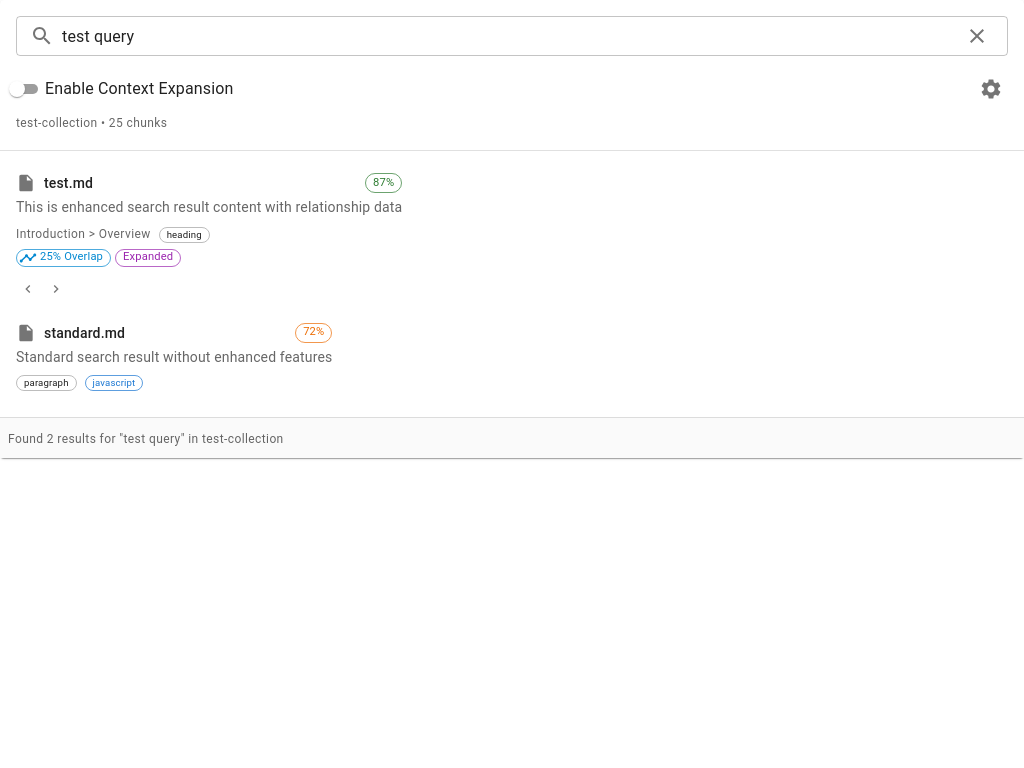
it: EnhancedVectorSearchPanel › Accessibility › provides proper ARIA labels for enhanced controls
Check: the switch labelled "Enable Context Expansion" is shown, box [5,77,234,101]
// Expand settings to access the slider
Click the button named "Enhanced Search Settings" at (991, 89), box [974,72,1008,106]
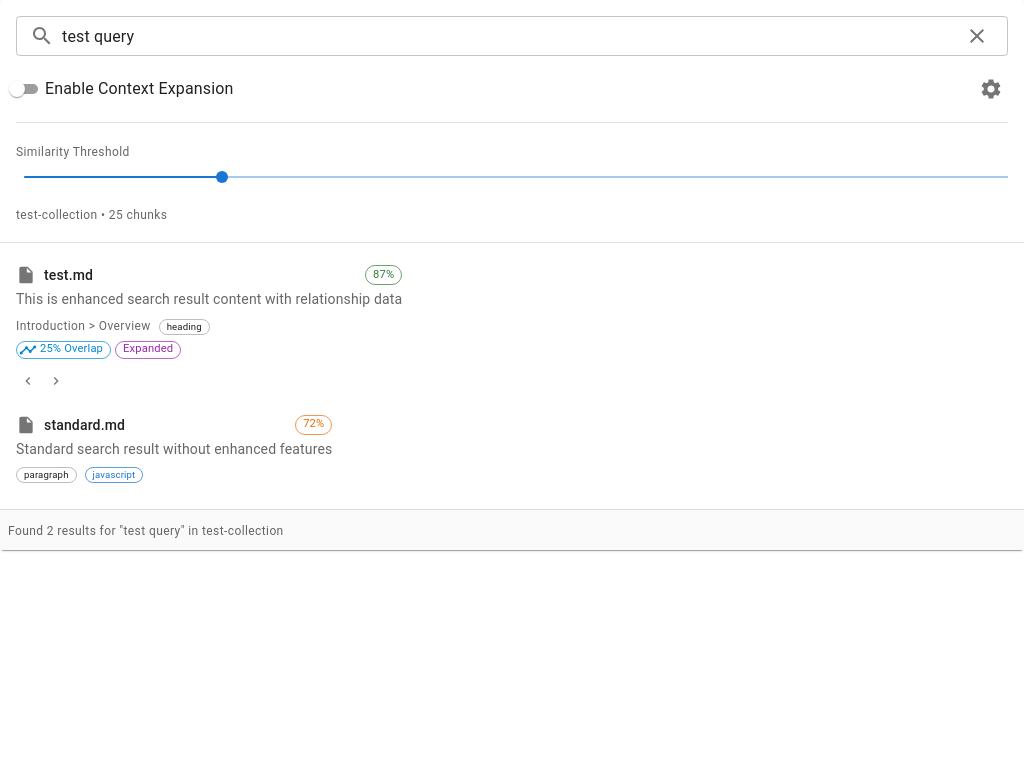
Check: the slider named "Similarity Threshold" is shown, box [216,171,228,183]
